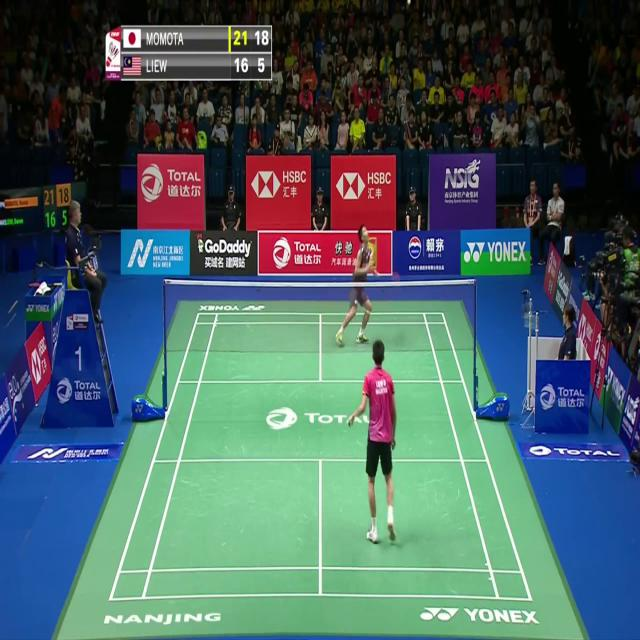Shuttlecock: (406, 0, 413, 8)
